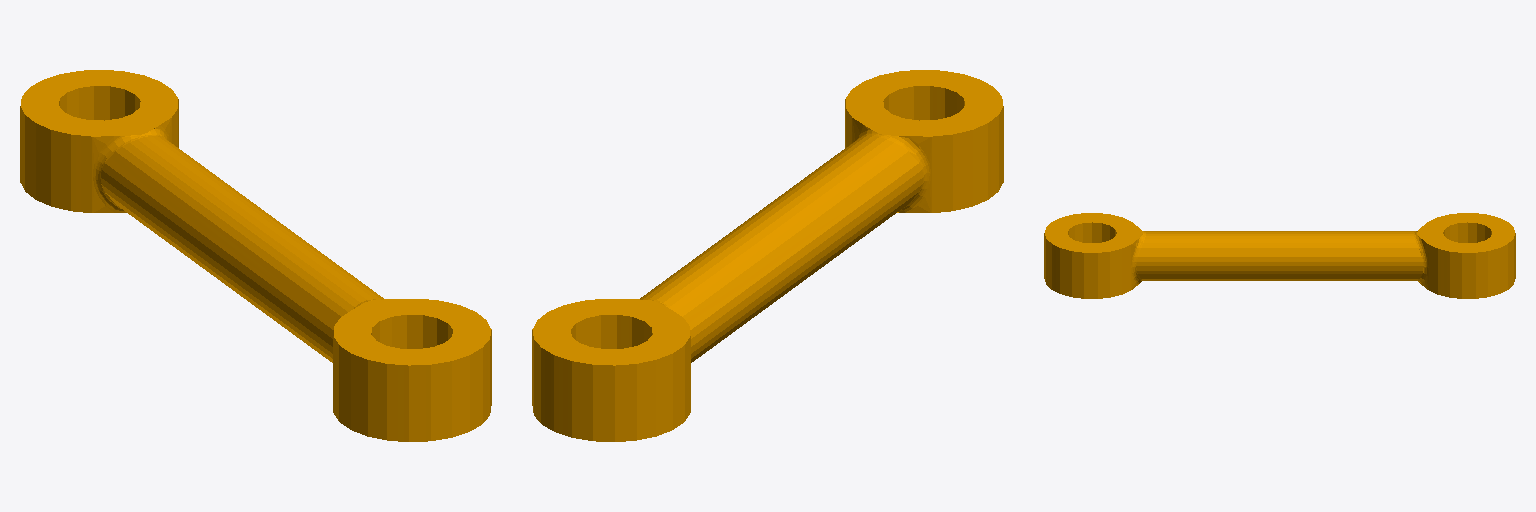
The robot description file, URDF, robot "00163_socket":
<?xml version="1.0"?>
<robot name="00163_socket">
	<link name="00163_socket">
		<visual>
			<geometry>
				<mesh filename="../mesh/00163/asset_socket.obj"/>
			</geometry>
		</visual>
		<collision>
			<geometry>
				<mesh filename="../mesh/00163/asset_socket.obj"/>
			</geometry>
			<sdf resolution="256"/>
		</collision>
	</link>
</robot>

--- What the picture shows (computed from the rendered views, not written in the file) ---
The picture shows the robot from 3 angles, left to right: view 1: azimuth 30°, elevation 25°; view 2: azimuth 150°, elevation 25°; view 3: azimuth 270°, elevation 25°; orthographic projection.
Robot: 00163_socket — 1 links, 0 joints (none); root link 00163_socket; default pose: every joint at zero.
Links seen in each view (by area): view 1: 00163_socket; view 2: 00163_socket; view 3: 00163_socket.
Boxes of the visible links, left/top/right/bottom form: 00163_socket: left=20, top=70, right=491, bottom=441; 00163_socket: left=532, top=70, right=1003, bottom=441; 00163_socket: left=1044, top=213, right=1515, bottom=298.
Bounding box of the posed robot: 0.0168 × 0.0832 × 0.009 m (x, y, z).
Meshes: 1 distinct files referenced, 1 mesh visuals loaded (1 OBJ).
